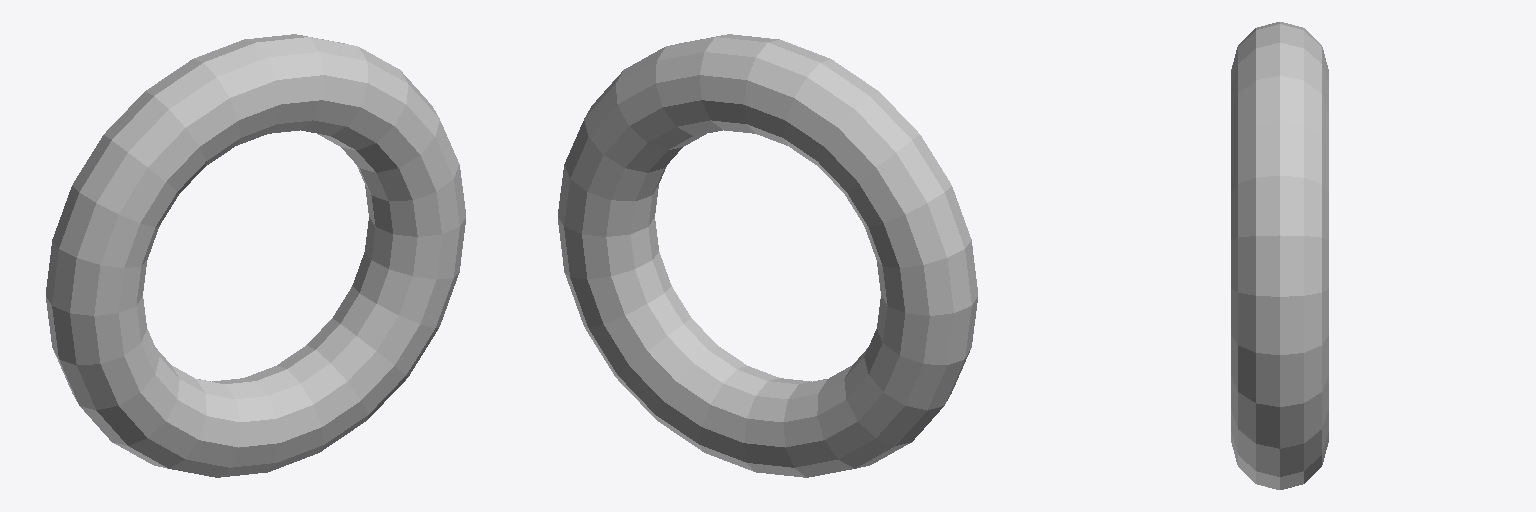
The model's file is tore.obj.
3 views of the same model, side by side, from view 1: azimuth 30°, elevation 25°; view 2: azimuth 150°, elevation 25°; view 3: azimuth 270°, elevation 25° (orthographic).
Visible parts, largest first — view 1: Tore001; view 2: Tore001; view 3: Tore001.
Part boxes in pixels (x1,y1,x2,y2): Tore001: (46,34,465,477); Tore001: (558,34,977,477); Tore001: (1231,22,1328,489).
Bounding box in the file's own units: 70.96 × 70.96 × 14.69.